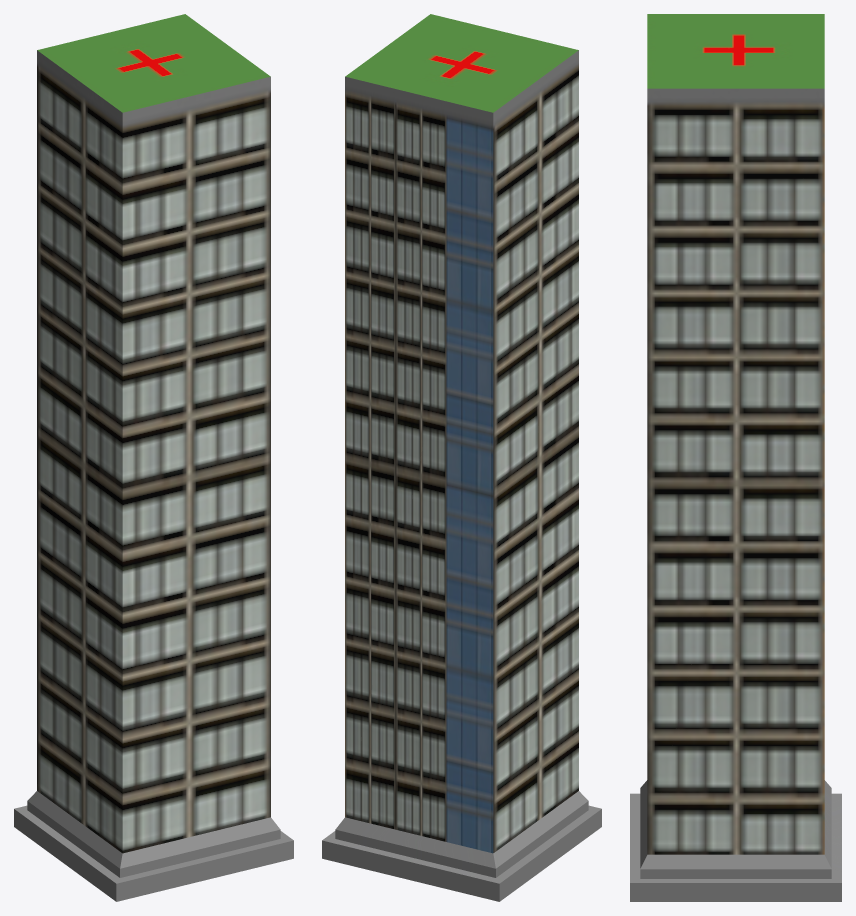
The model's file is obj_office_2.fbx.
The picture shows the model from 3 angles, left to right: view 1: azimuth 30°, elevation 25°; view 2: azimuth 150°, elevation 25°; view 3: azimuth 270°, elevation 25°; orthographic projection. The views are drawn at different scales.
Parts seen in each view (by area): view 1: pCube5; view 2: pCube5; view 3: pCube5.
Part boxes in pixels (x1=…): pCube5: x1=14, y1=14, x2=293, y2=901; pCube5: x1=322, y1=14, x2=601, y2=901; pCube5: x1=630, y1=14, x2=841, y2=901.
Size of the model in its own units: 6.73 by 28.23 by 6.73.
